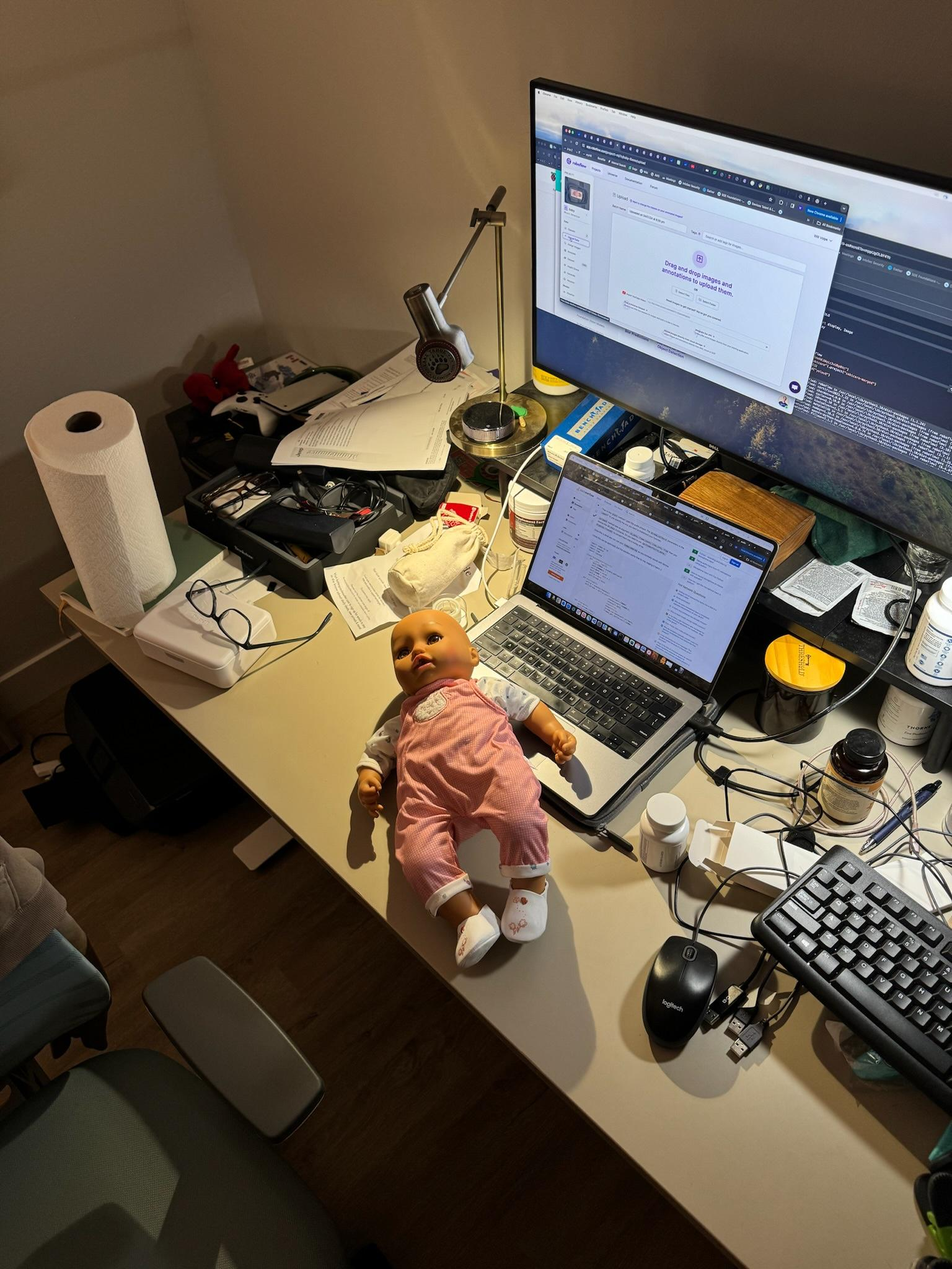baby: (343, 609, 585, 958)
